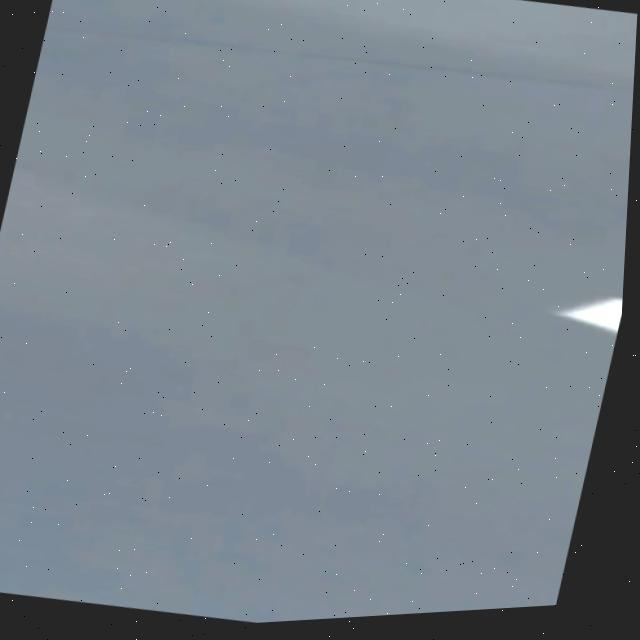center: (552, 298, 623, 334)
